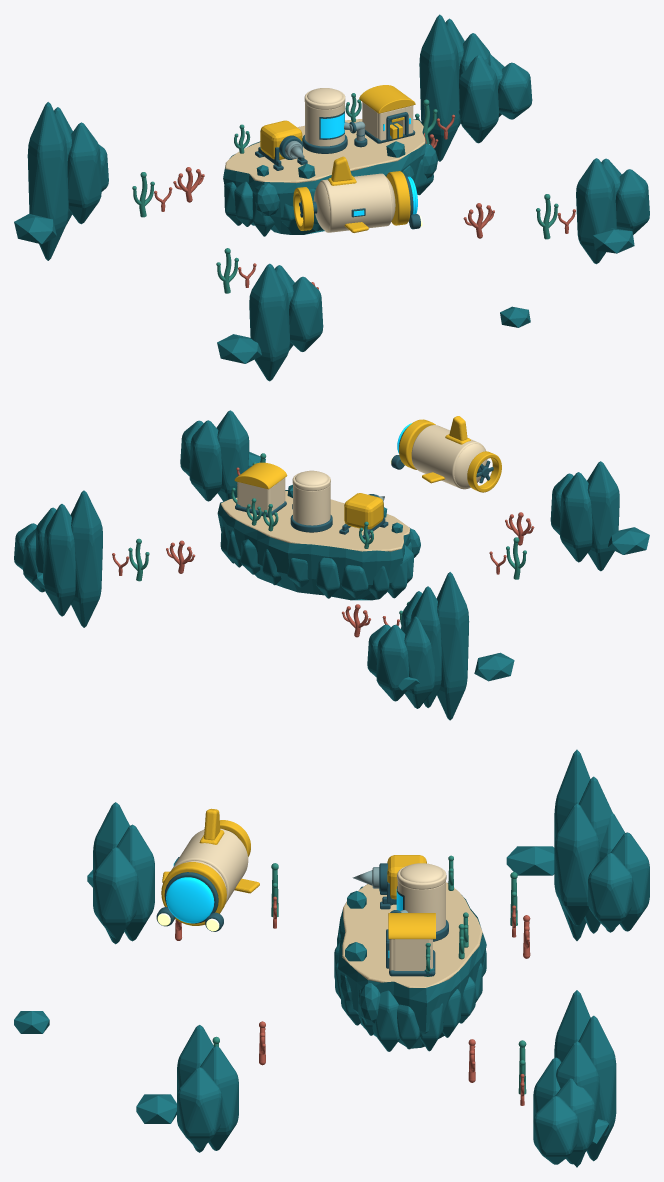
3 renders of one model, top to bottom at view 1: azimuth 30°, elevation 25°; view 2: azimuth 150°, elevation 25°; view 3: azimuth 270°, elevation 25°, orthographic. The views are drawn at different scales.
Visible parts, largest first — view 1: Distant rock pillar, Sandy island top, Distant rock pillar.006, Distant rock pillar.012, Submarine main hull, Distant rock pillar.015, Distant rock pillar.002, Distant rock pillar.009, Faceted rocky island, Distant rock pillar.014, Distant rock pillar.017, Distant rock pillar.011 (+13 smaller); view 2: Faceted rocky island, Sandy island top, Distant rock pillar, Distant rock pillar.006, Distant rock pillar.007, Distant rock pillar.012, Distant rock pillar.013, Submarine main hull, Distant rock pillar.016, Distant rock pillar.015, Distant rock pillar.003, Distant rock pillar.004 (+21 smaller); view 3: Sandy island top, Distant rock pillar.002, Faceted rocky island, Distant rock pillar.014, Distant rock pillar.017, Distant rock pillar.005, Distant rock pillar.007, Distant rock pillar.011, Submarine main hull, Distant rock pillar.013, Distant rock pillar.016, Distant rock pillar.004 (+23 smaller).
Part boxes in pixels (x1,y1,x2,y2): Distant rock pillar: [27, 102, 68, 260]; Sandy island top: [225, 119, 425, 183]; Distant rock pillar.006: [419, 14, 459, 161]; Distant rock pillar.012: [249, 263, 289, 381]; Submarine main hull: [320, 173, 392, 232]; Distant rock pillar.015: [576, 158, 616, 264]; Distant rock pillar.002: [67, 122, 101, 224]; Distant rock pillar.009: [459, 55, 498, 143]; Faceted rocky island: [223, 119, 426, 234]; Distant rock pillar.014: [289, 276, 323, 351]; Distant rock pillar.017: [615, 169, 649, 234]; Distant rock pillar.011: [498, 62, 532, 119]; Faceted rocky island: [217, 490, 410, 600]; Sandy island top: [221, 491, 409, 551]; Distant rock pillar: [436, 572, 469, 720]; Distant rock pillar.006: [70, 490, 102, 627]; Distant rock pillar.007: [43, 504, 75, 616]; Distant rock pillar.012: [587, 461, 619, 571]; Distant rock pillar.013: [559, 472, 592, 562]; Submarine main hull: [411, 425, 487, 489]; Distant rock pillar.016: [189, 420, 221, 501]; Distant rock pillar.015: [216, 410, 249, 501]; Distant rock pillar.003: [403, 616, 435, 708]; Distant rock pillar.004: [376, 624, 408, 701]; Sandy island top: [342, 882, 482, 987]; Distant rock pillar.002: [554, 803, 599, 925]; Faceted rocky island: [338, 895, 486, 1048]; Distant rock pillar.014: [93, 847, 138, 938]; Distant rock pillar.017: [177, 1067, 222, 1149]; Distant rock pillar.005: [588, 853, 633, 930]; Distant rock pillar.007: [578, 1015, 616, 1161]; Distant rock pillar.011: [533, 1096, 578, 1164]; Submarine main hull: [171, 828, 248, 904]; Distant rock pillar.013: [116, 824, 154, 941]; Distant rock pillar.016: [200, 1046, 238, 1150]; Distant rock pillar.004: [610, 832, 649, 931].
Size of what is drawn, in the model's own units: 17.28 by 5.68 by 15.17.
